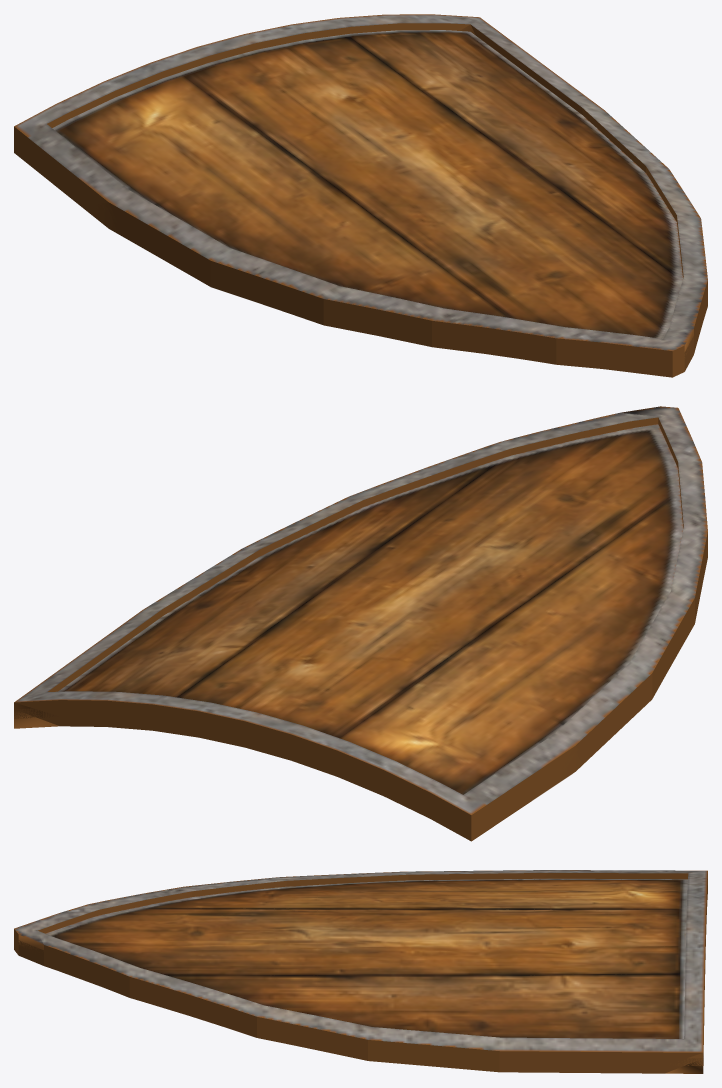
The model's file is item_mm9_10145.glb.
3 renders of one model, top to bottom at view 1: azimuth 30°, elevation 25°; view 2: azimuth 150°, elevation 25°; view 3: azimuth 270°, elevation 25°, orthographic. The views are drawn at different scales.
Parts seen in each view (by area): view 1: d10145; view 2: d10145; view 3: d10145.
Boxes of the visible parts, left/top/right/bottom form: d10145: left=14, top=14, right=707, bottom=377; d10145: left=14, top=406, right=707, bottom=841; d10145: left=14, top=870, right=707, bottom=1073.
Bounding box in the file's own units: 84.15 × 11.28 × 135.
Materials: 1 (1 with a texture image).
